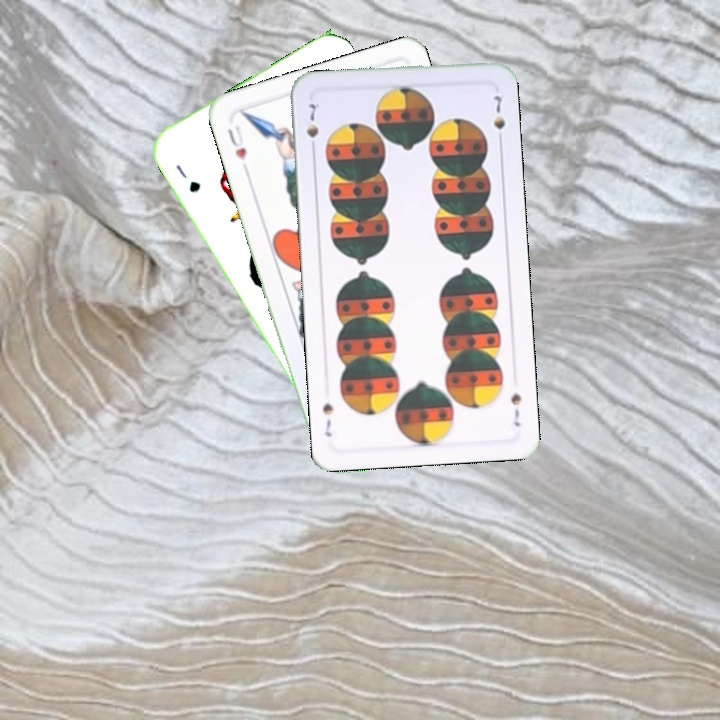GU: (171, 160, 204, 196)
HU: (223, 121, 249, 163)
S7: (302, 99, 321, 155), (506, 389, 524, 429)
